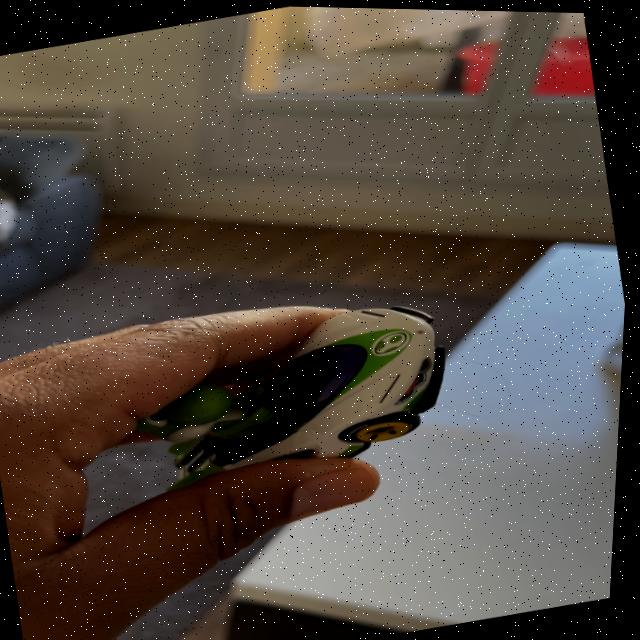yoshi: (84, 302, 456, 517)
